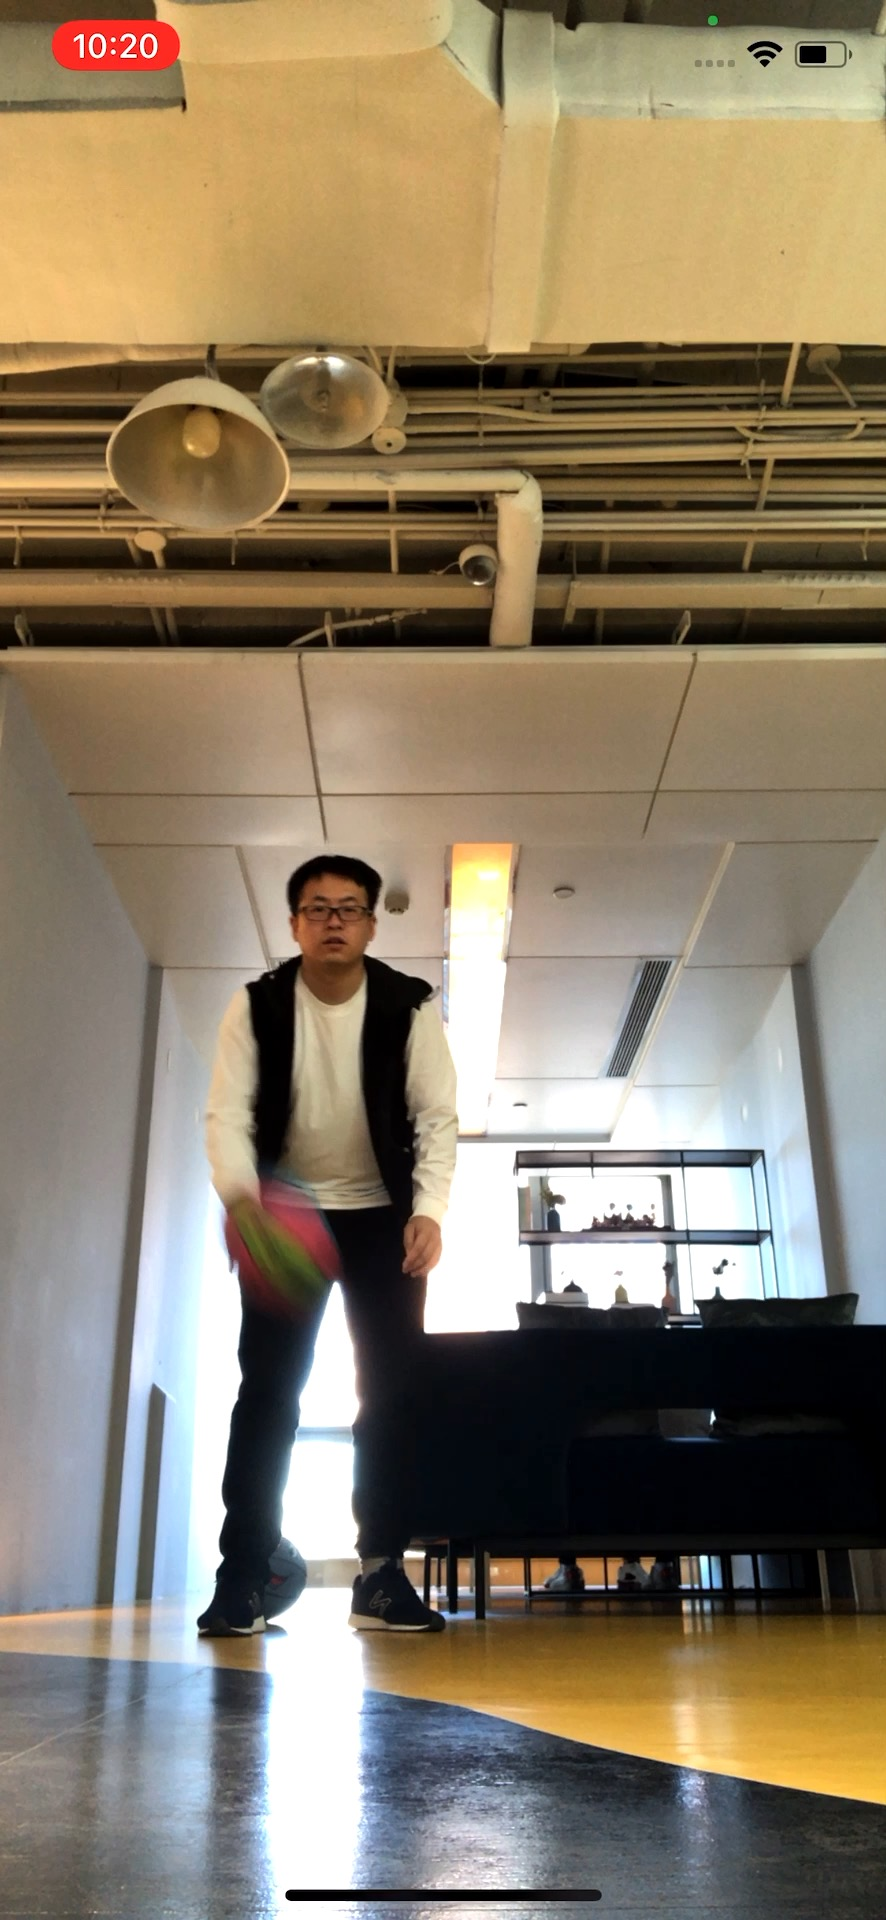ball: (221, 1194, 339, 1307)
